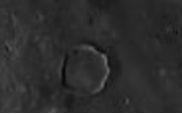crater: (33, 16, 146, 104)
